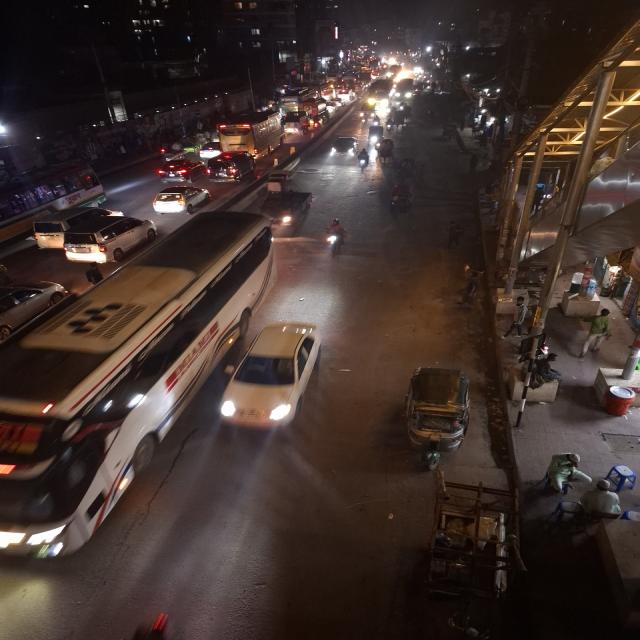bus: (0, 163, 107, 239), (218, 109, 286, 154), (280, 87, 316, 113), (366, 79, 393, 110)
car: (217, 320, 328, 437), (0, 274, 72, 344), (62, 213, 157, 265), (27, 206, 104, 250), (149, 183, 212, 216), (204, 149, 261, 185), (152, 154, 202, 182), (323, 134, 361, 164), (196, 141, 224, 157)
cng: (402, 363, 474, 474), (357, 104, 378, 122)
motorcycle: (320, 216, 351, 260), (357, 148, 372, 170), (386, 118, 394, 133)
pedestrian: (460, 269, 483, 314), (444, 221, 466, 255), (419, 165, 429, 183)
pickup_van: (260, 189, 318, 233)
rickshaw: (388, 185, 418, 217), (374, 137, 398, 163), (367, 127, 387, 150), (396, 160, 416, 183), (393, 110, 408, 128)
truck: (305, 100, 329, 123), (287, 114, 310, 136)
